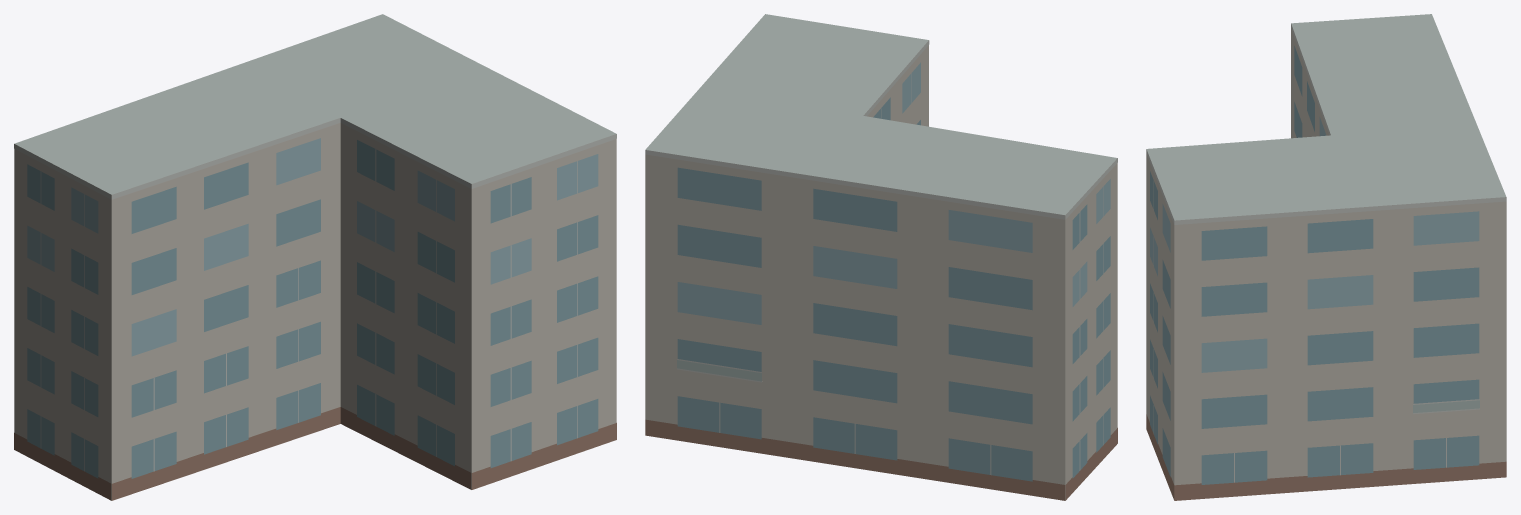
File: survey-upis-32765595.glb
3 renders of one model, left to right at view 1: azimuth 30°, elevation 25°; view 2: azimuth 150°, elevation 25°; view 3: azimuth 270°, elevation 25°, orthographic. The views are drawn at different scales.
Parts seen in each view (by area): view 1: survey-upis-32765595.tmp; view 2: survey-upis-32765595.tmp; view 3: survey-upis-32765595.tmp.
Boxes of the visible parts, x1,y1,x2,y2 form: survey-upis-32765595.tmp: (14,14,616,500); survey-upis-32765595.tmp: (645,14,1117,500); survey-upis-32765595.tmp: (1146,14,1506,500).
Size of the model in its own units: 23.87 by 15.1 by 17.59.
